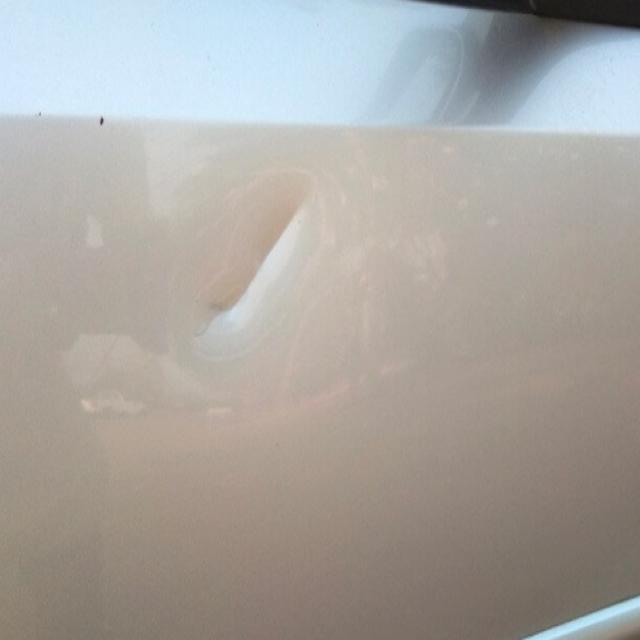dents: (181, 160, 361, 362)
